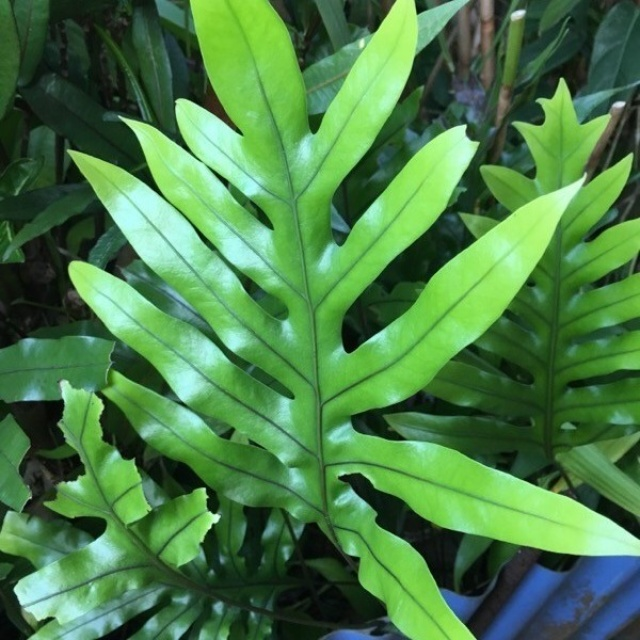obstacle: (47, 19, 595, 595)
